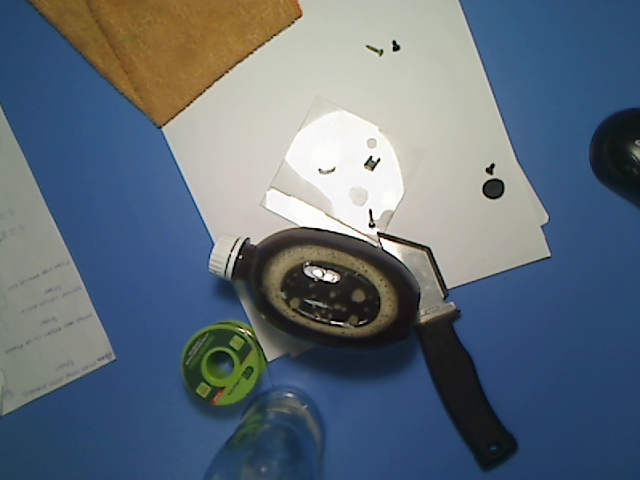plast_bottle: (207, 222, 424, 353)
